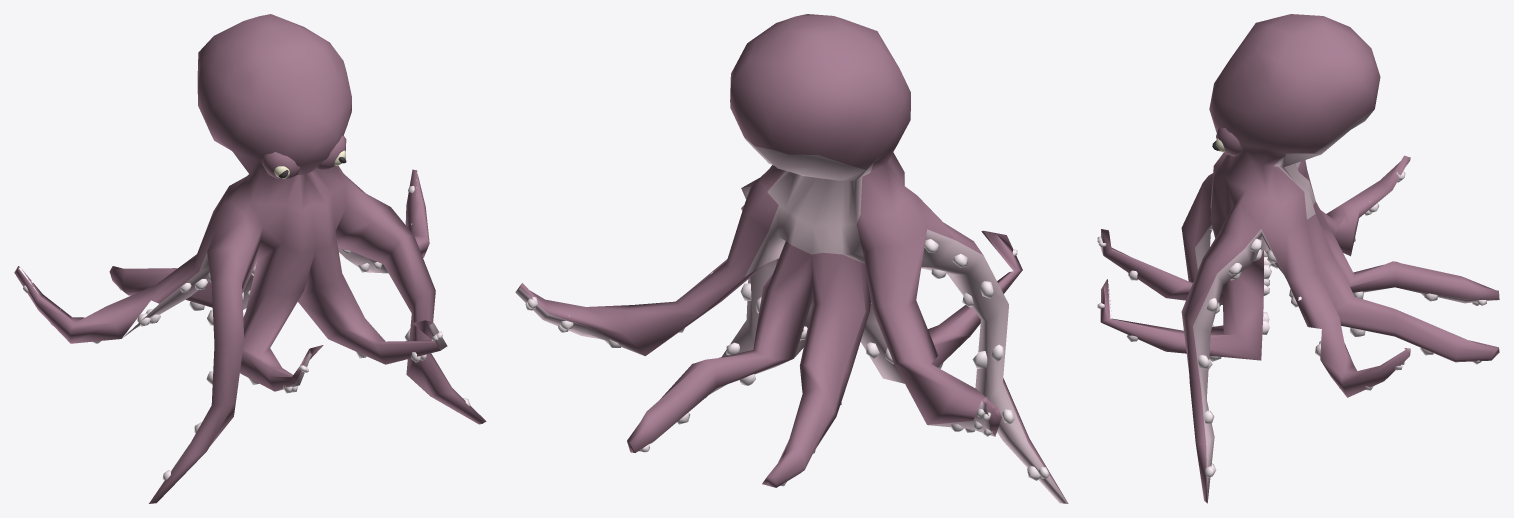
Rendered from 9F8QJKUT77V.glb.
3 views of the same model, side by side, from view 1: azimuth 30°, elevation 25°; view 2: azimuth 150°, elevation 25°; view 3: azimuth 270°, elevation 25° (orthographic). The views are drawn at different scales.
Parts seen in each view (by area): view 1: Symmetry.1; view 2: Symmetry.1; view 3: Symmetry.1.
Part boxes in pixels (x1,y1,x2,y2): Symmetry.1: (14,14,486,503); Symmetry.1: (515,14,1068,503); Symmetry.1: (1097,14,1499,503).
Size of the model in its own units: 1.04 by 1 by 0.9057.
